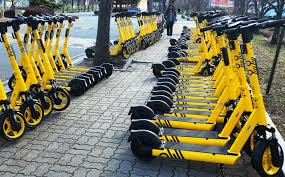kick_body: (164, 142, 235, 163), (160, 127, 226, 144), (158, 118, 210, 128), (171, 110, 211, 117), (175, 104, 212, 110)
kick_handler: (229, 19, 283, 39)
kick_neck: (244, 44, 266, 123)
kick_wheel: (253, 141, 284, 175), (130, 130, 157, 159), (1, 110, 25, 140), (21, 102, 43, 128), (48, 88, 70, 110), (129, 105, 153, 119), (147, 100, 169, 112), (69, 79, 85, 93), (152, 65, 164, 77), (102, 64, 114, 76), (121, 46, 130, 59), (85, 48, 95, 58), (169, 39, 177, 46)
